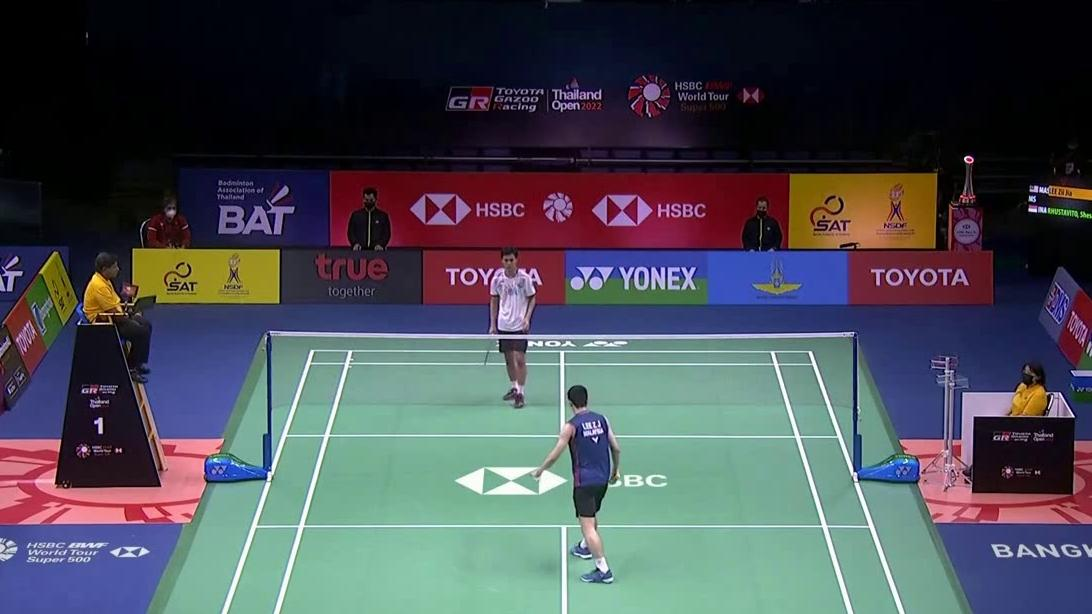racket: (484, 328, 497, 366)
shuttle: (528, 467, 544, 481)
